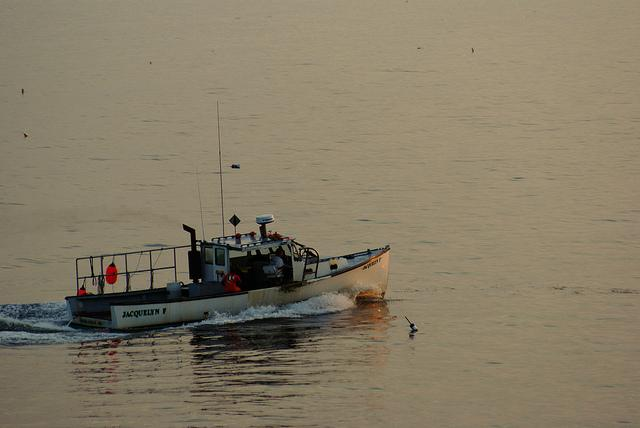otherboat: (54, 115, 395, 334)
